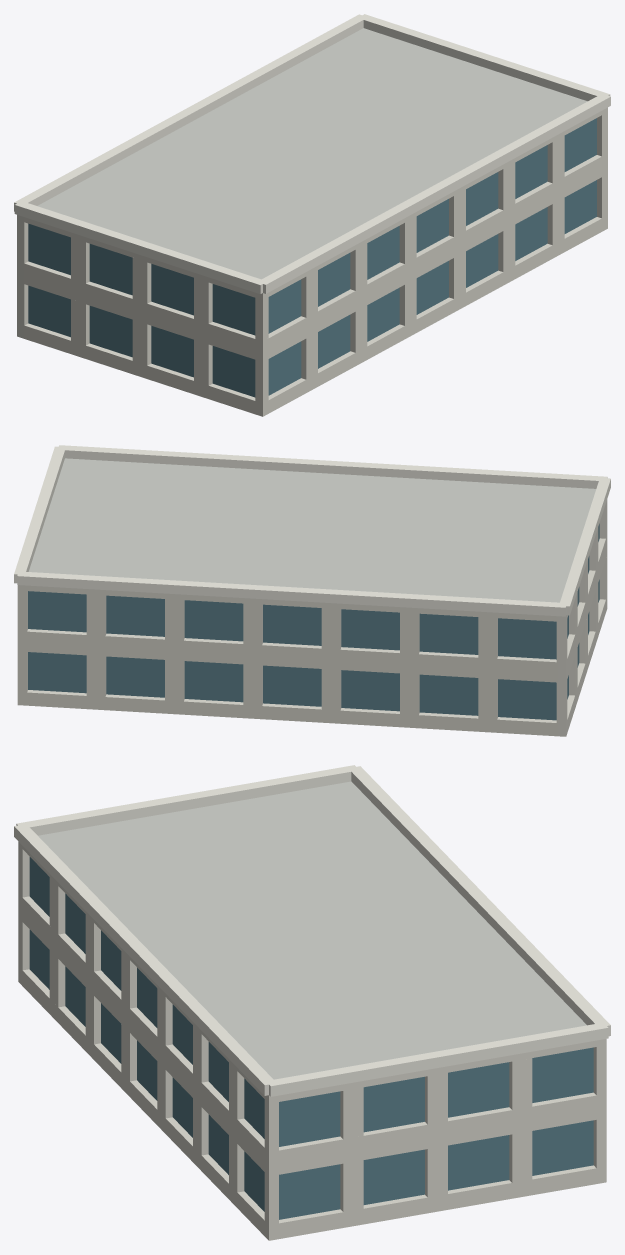
File: sb_979796700.far.glb
The picture shows the model from 3 angles, top to bottom: view 1: azimuth 30°, elevation 25°; view 2: azimuth 150°, elevation 25°; view 3: azimuth 270°, elevation 25°; orthographic projection. The views are drawn at different scales.
Parts seen in each view (by area): view 1: roof, wall, glass, trim; view 2: roof, wall, glass, trim; view 3: roof, wall, glass, trim.
Part boxes in pixels (x1,y1,x2,y2): roof: [37, 28, 587, 279]; wall: [17, 107, 607, 416]; glass: [28, 118, 596, 397]; trim: [14, 14, 610, 294]; roof: [28, 458, 596, 602]; wall: [17, 499, 607, 736]; glass: [28, 523, 599, 720]; trim: [14, 445, 610, 616]; roof: [38, 781, 586, 1079]; wall: [18, 841, 606, 1240]; glass: [29, 857, 593, 1219]; trim: [14, 765, 610, 1096].
Size of the model in its own units: 28.37 by 6.44 by 22.28.
